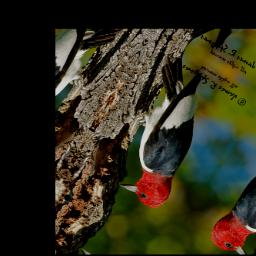Woodpecker: (91, 49, 235, 215)
